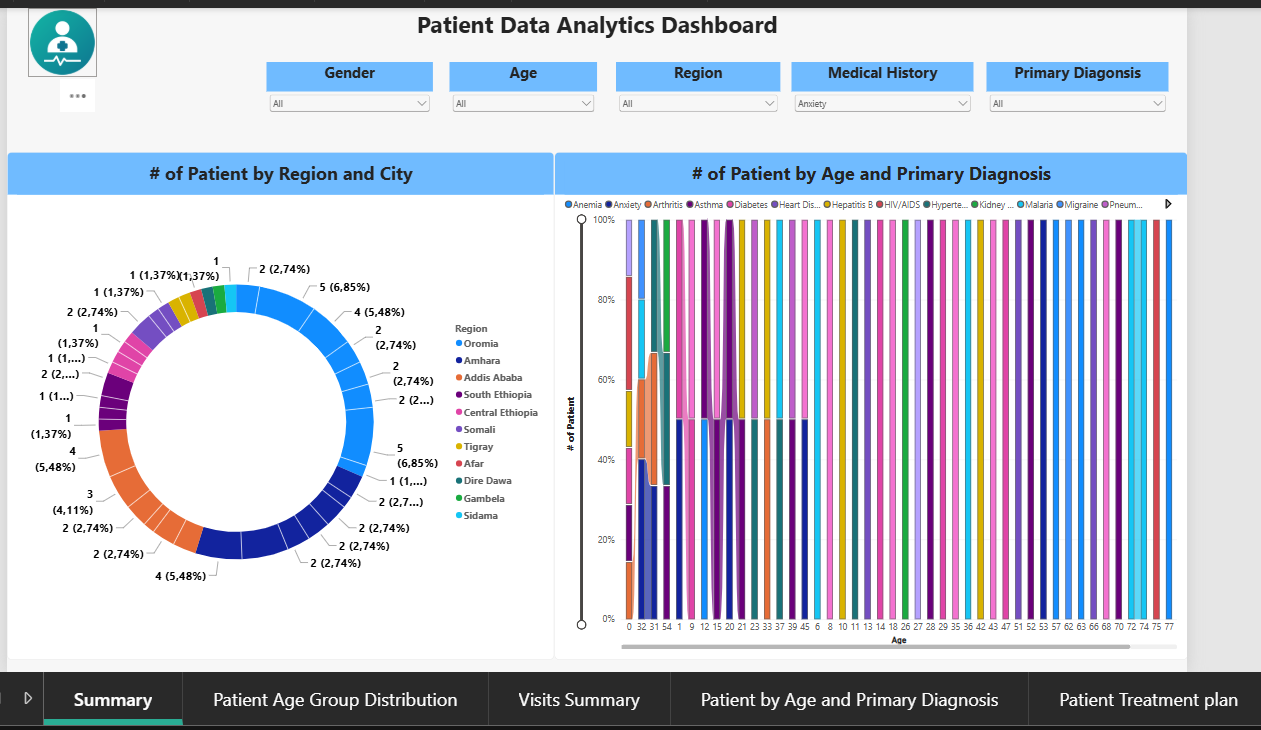

The dashboard page shown, as its layout file describes it:
{"tool":"powerbi","page":{"name":"Summary","canvas":[1920,1080],"ordinal":0},"visuals":[{"type":"donutChart","title":"# of Patient by Region and City","fields":{"Category":["Patient Data.Region"],"Series":["Patient Data.City"],"Y":["CountNonNull(Patient Data.Patient ID)"]},"box":[0,233.9,890.1,826.3],"z":0},{"type":"hundredPercentStackedColumnChart","title":"# of Patient  by Age and Primary Diagnosis","fields":{"Category":["Patient Data.Age"],"Series":["Patient Data.Primary Diagnosis"],"Y":["CountNonNull(Patient Data.Patient ID)"]},"box":[890.1,233.9,1029.9,826.3],"z":1000},{"type":"textbox","box":[0,0,1920.1,87.8],"z":2000},{"type":"slicer","title":"Medical History","fields":{"Values":["Patient Data.Medical Histpory"]},"box":[1276,87.8,296.2,122.6],"z":3000},{"type":"slicer","title":"Region","fields":{"Values":["Patient Data.Region"]},"box":[990.6,87.8,267.3,121.5],"z":5000},{"type":"slicer","title":"Age ","fields":{"Values":["Patient Data.Age"]},"box":[719.7,87.8,240,121.5],"z":6000},{"type":"slicer","title":"Primary Diagonsis","fields":{"Values":["Patient Data.Primary Diagnosis"]},"box":[1593.2,87.8,296.2,122.6],"z":7000},{"type":"slicer","title":"Gender","fields":{"Values":["Patient Data.Gender"]},"box":[422.1,87.8,270.4,121.5],"z":8000},{"type":"image","box":[34.2,0,112.2,112.2],"z":8001}]}

Visuals, with their boxes on the page's 1920x1080 design canvas (x1, y1, x2, y2). These are canvas units, not pixel positions in the 1261x730 screenshot, which may show the page scaled, cropped or inside an application window:
"# of Patient by Region and City" donutChart: 0:234:890:1060
"# of Patient  by Age and Primary Diagnosis" hundredPercentStackedColumnChart: 890:234:1920:1060
textbox: 0:0:1920:88
"Medical History" slicer: 1276:88:1572:210
"Region" slicer: 991:88:1258:209
"Age " slicer: 720:88:960:209
"Primary Diagonsis" slicer: 1593:88:1889:210
"Gender" slicer: 422:88:692:209
image: 34:0:146:112
